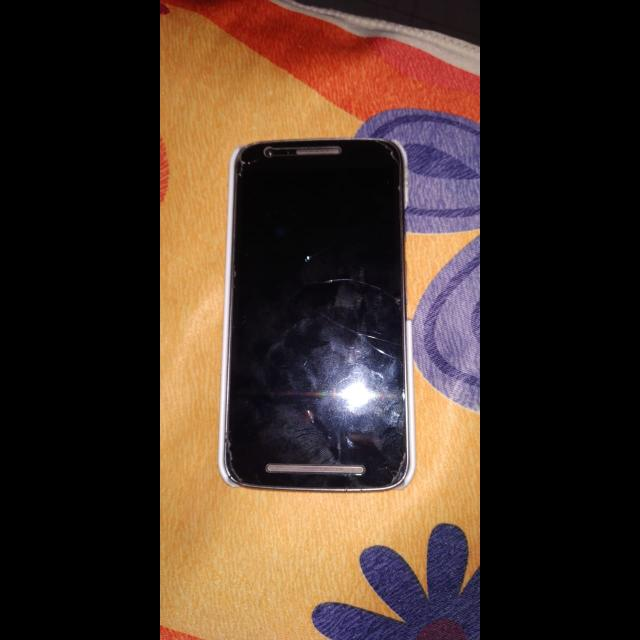Smartphone: (211, 120, 427, 510)
